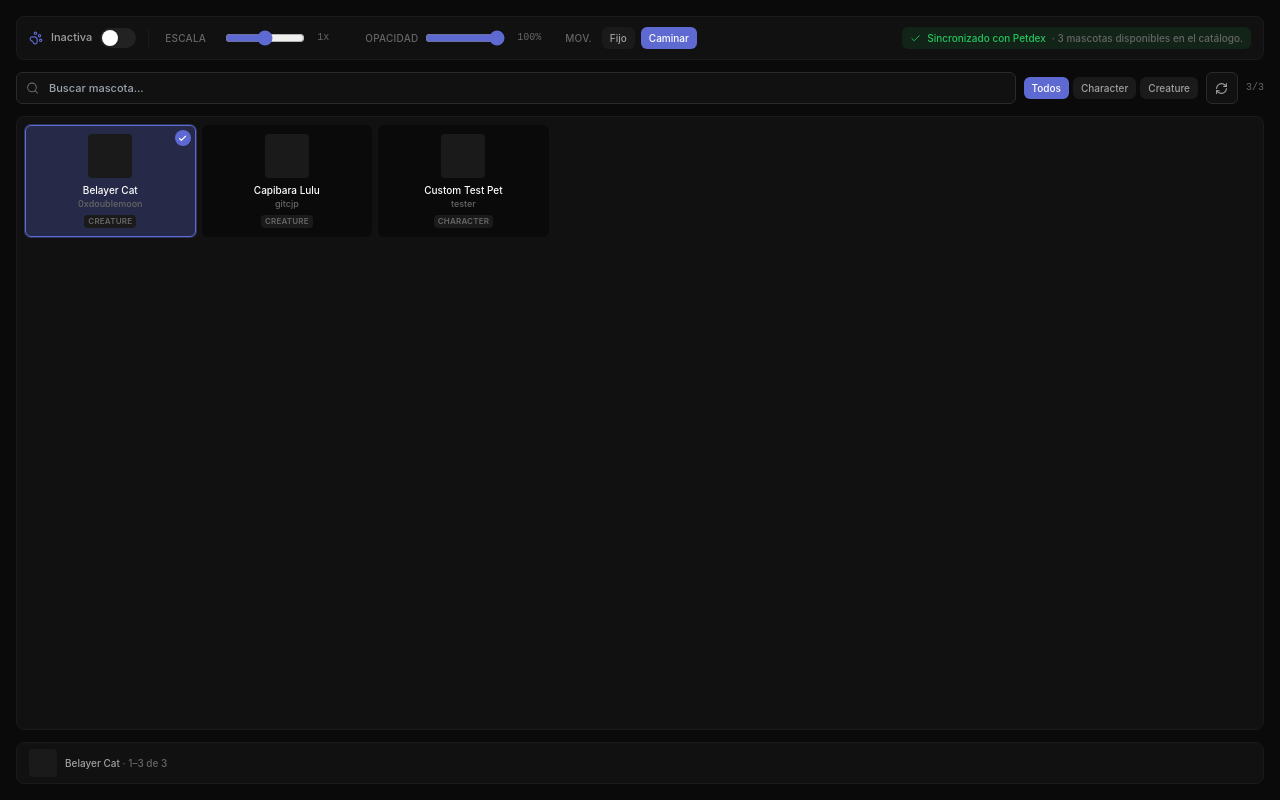
Scenario: PetdexView › filters pets by search query and category
Expected: the text "Custom Test Pet" is shown, [424,184,503,196]
In the field with placeholder "Buscar mascota...": coordinates (516, 88) [16,72,1016,104], type "Capibara"
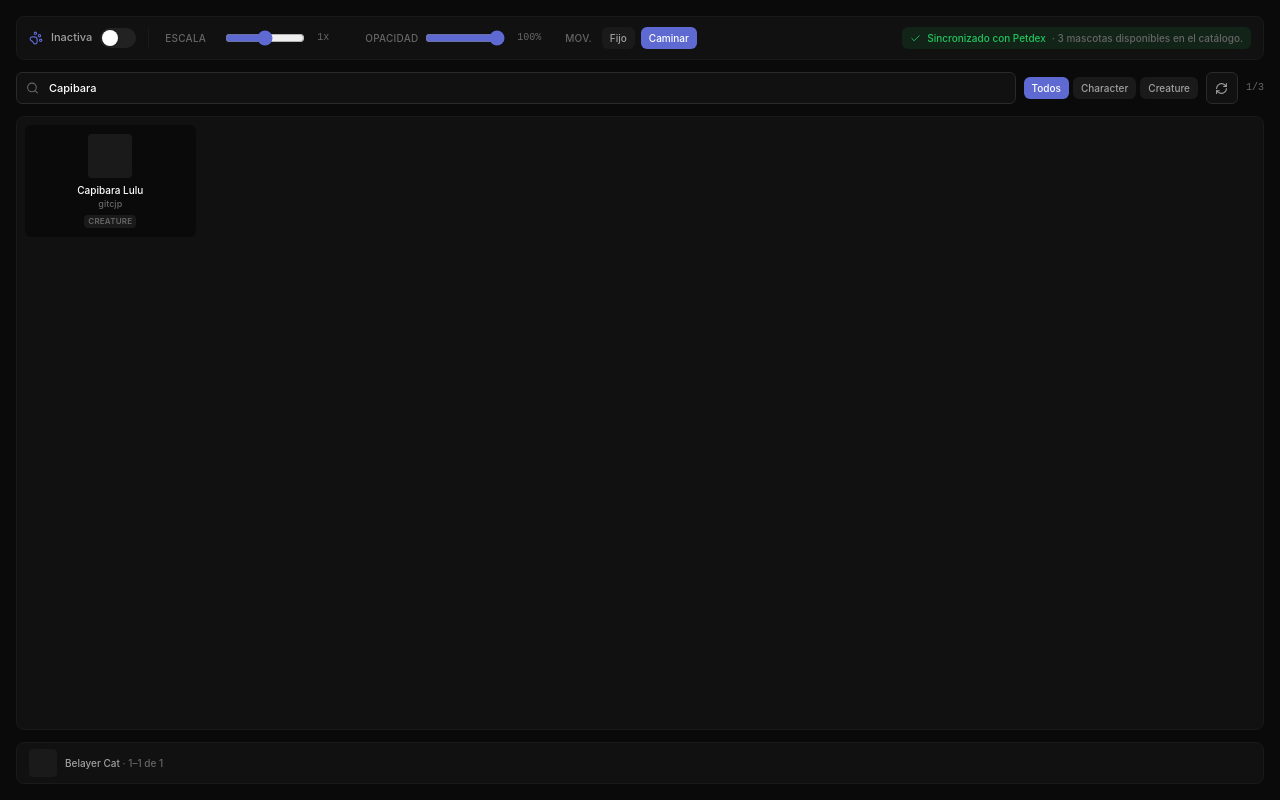
Expected: the text "Capibara Lulu" is shown, [77,184,143,196]
Expected: the button "Custom Test Pet" is gone
